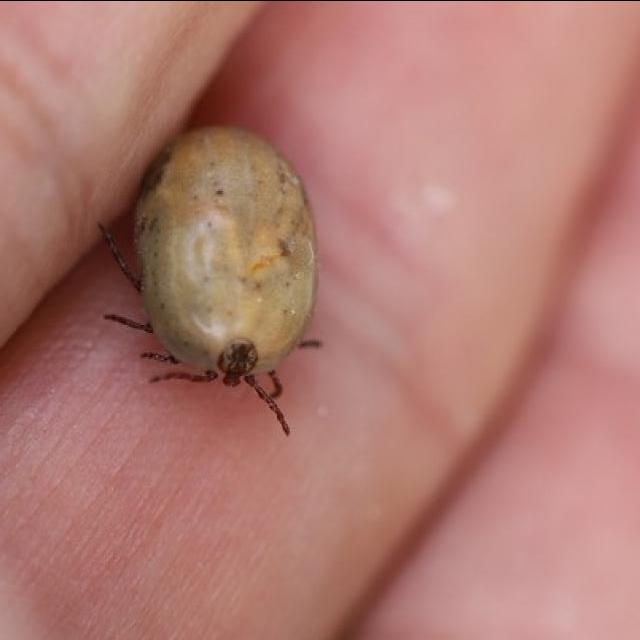Dermacentor Reticulatus-F-Fed: (97, 124, 323, 436)
